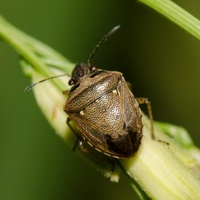insect: (25, 25, 168, 158)
